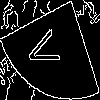V: (24, 24, 68, 74)
